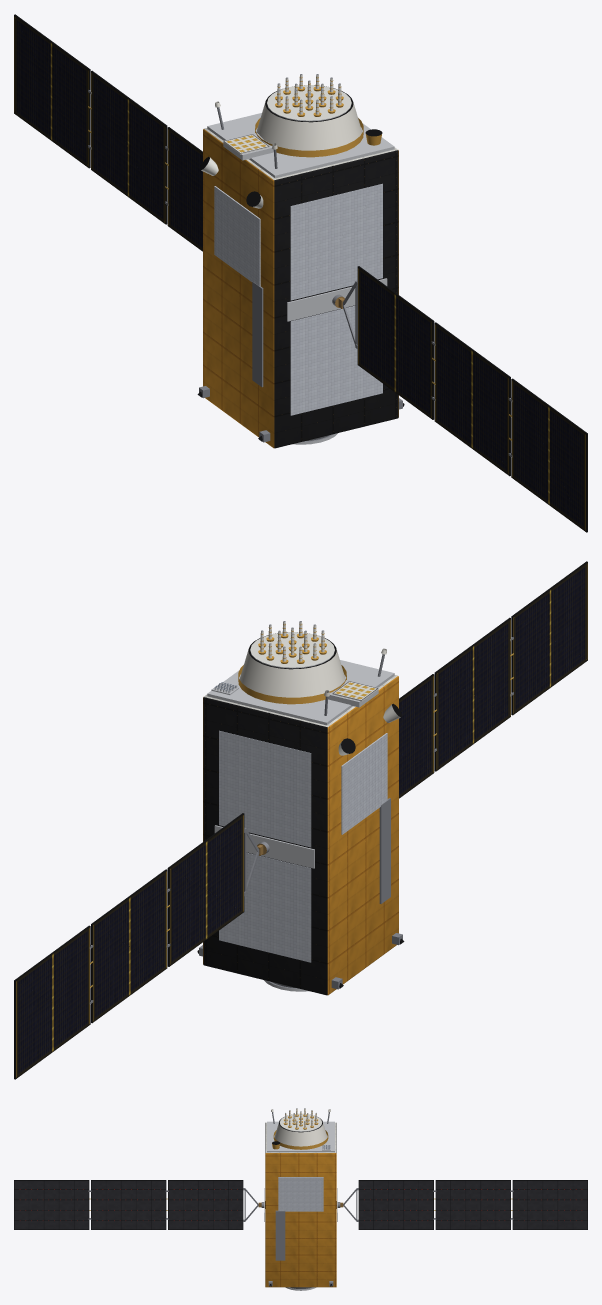
The model's file is qzss-igso.glb.
3 views of the same model, one above another, from view 1: azimuth 30°, elevation 25°; view 2: azimuth 150°, elevation 25°; view 3: azimuth 270°, elevation 25° (orthographic). The views are drawn at different scales.
Visible parts, largest first — view 1: bus, wing-Y, wing+Y, payload_deck; view 2: bus, wing+Y, wing-Y, payload_deck; view 3: wing+Y, wing-Y, bus, payload_deck.
Boxes of the visible parts, left/top/right/bottom form: bus: left=197, top=128, right=404, bottom=448; wing-Y: left=338, top=266, right=587, bottom=532; wing+Y: left=14, top=14, right=202, bottom=251; payload_deck: left=207, top=74, right=394, bottom=178; bus: left=197, top=675, right=404, bottom=995; wing+Y: left=14, top=813, right=263, bottom=1079; wing-Y: left=399, top=561, right=587, bottom=798; payload_deck: left=207, top=621, right=394, bottom=725; wing+Y: left=340, top=1180, right=587, bottom=1229; wing-Y: left=14, top=1180, right=261, bottom=1229; bus: left=264, top=1122, right=337, bottom=1290; payload_deck: left=267, top=1108, right=334, bottom=1152.
Size of the model in its own units: 2.85 by 6.21 by 18.92.
18 materials, 7 textured.
